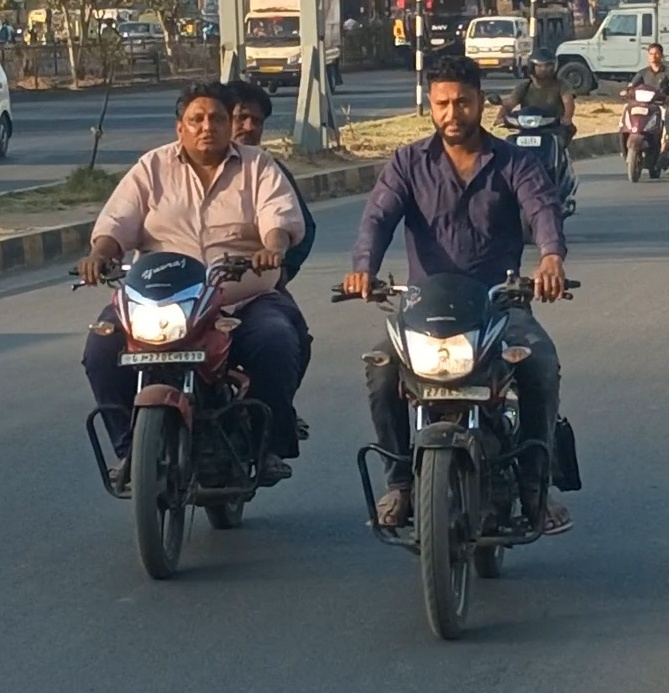BikeWithRider: (320, 33, 598, 637), (65, 63, 319, 603), (487, 39, 628, 251), (612, 32, 668, 200)
Helmet: (511, 42, 573, 87)
NoHelmet: (417, 45, 496, 141), (170, 78, 235, 161), (218, 77, 272, 158), (641, 36, 669, 72)
